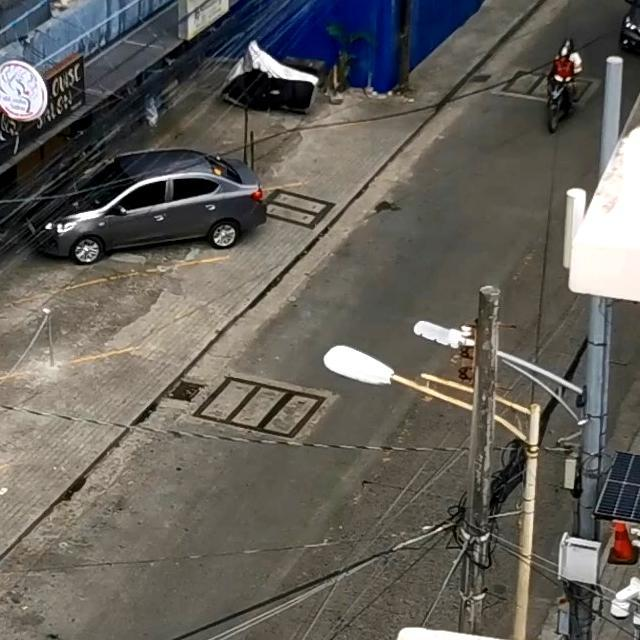Car: (27, 149, 260, 261)
